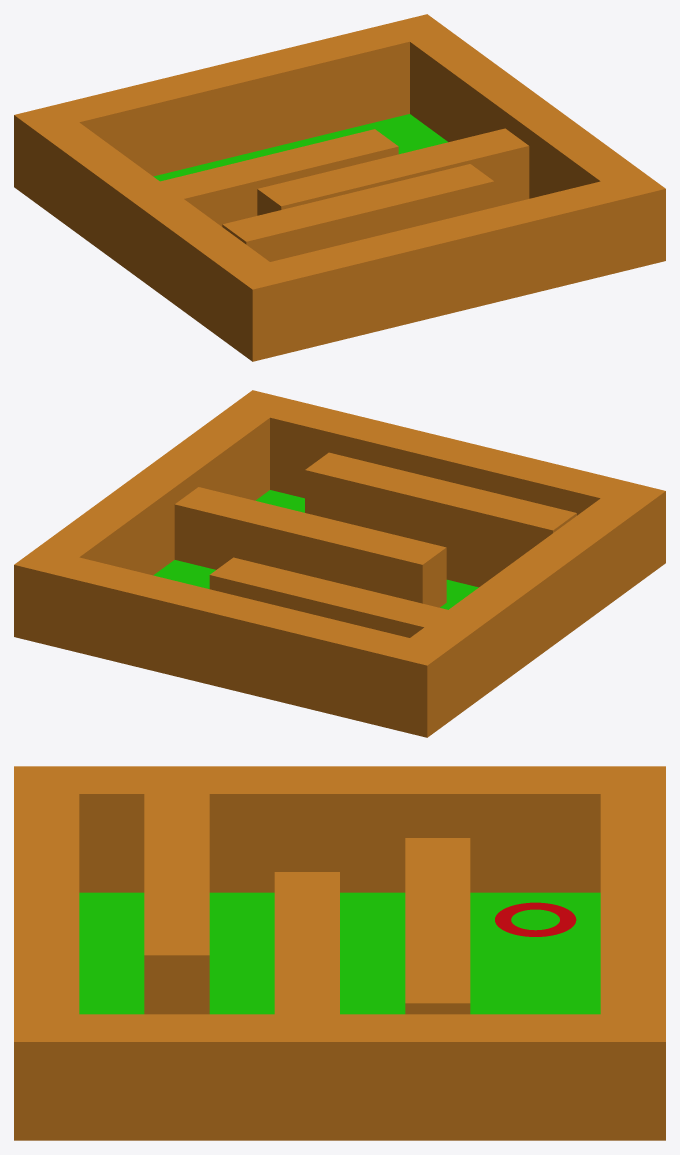
Rendered from Level#10.fbx.
3 views of the same model, one above another, from view 1: azimuth 30°, elevation 25°; view 2: azimuth 150°, elevation 25°; view 3: azimuth 270°, elevation 25° (orthographic). The views are drawn at different scales.
Visible parts, largest first — view 1: Grid; view 2: Grid; view 3: Grid, Torus.
Part boxes in pixels (x1=…): Grid: x1=14, y1=14, x2=665, y2=361; Grid: x1=14, y1=390, x2=665, y2=737; Grid: x1=14, y1=766, x2=665, y2=1140; Torus: x1=495, y1=902, x2=576, y2=936.
Size of the model in its own units: 200 by 34.68 by 200.
